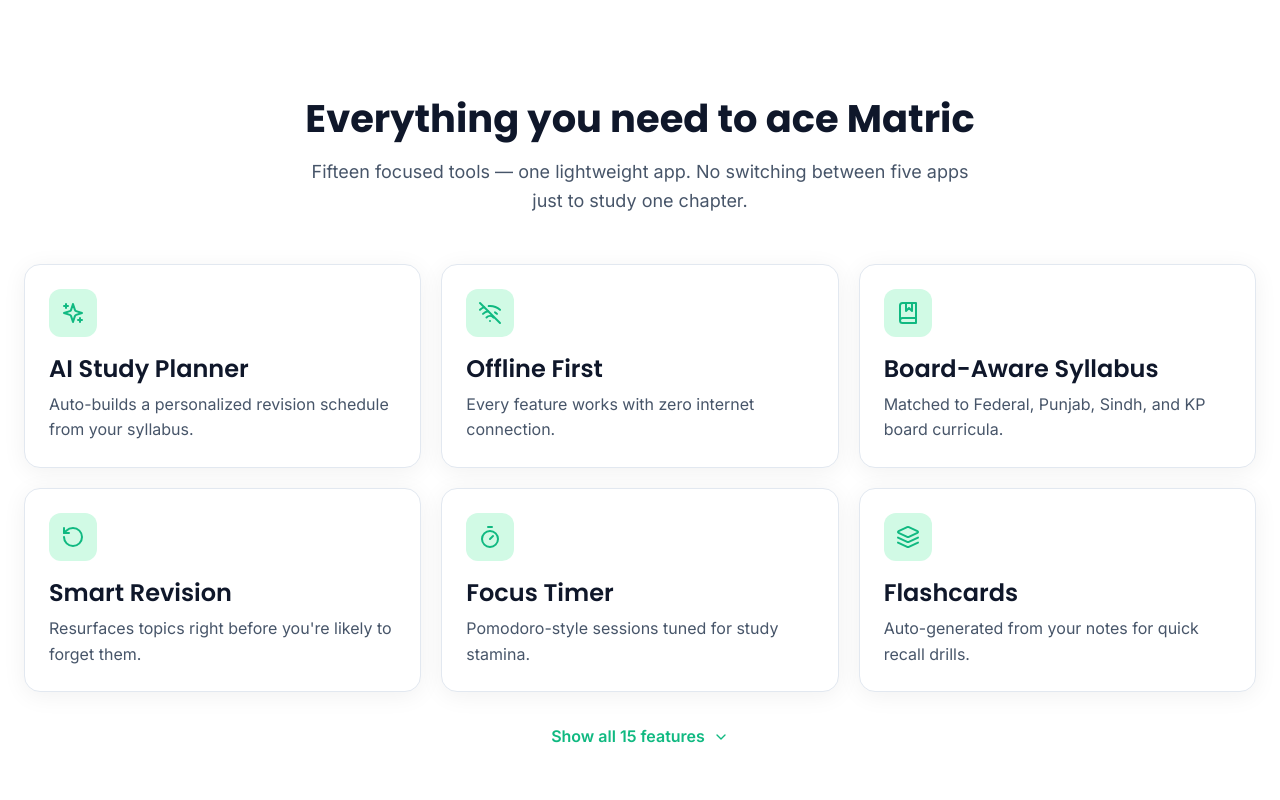
Test: Features › toggles back to 6 features when clicked again
The width and height of the screenshot is (1280, 800).
What coordinates should you click on to do the following:
click the button "Show all 15 features"
I would click on:
 (640, 737)
Its box is [551,724,729,750].
(page scrolled)
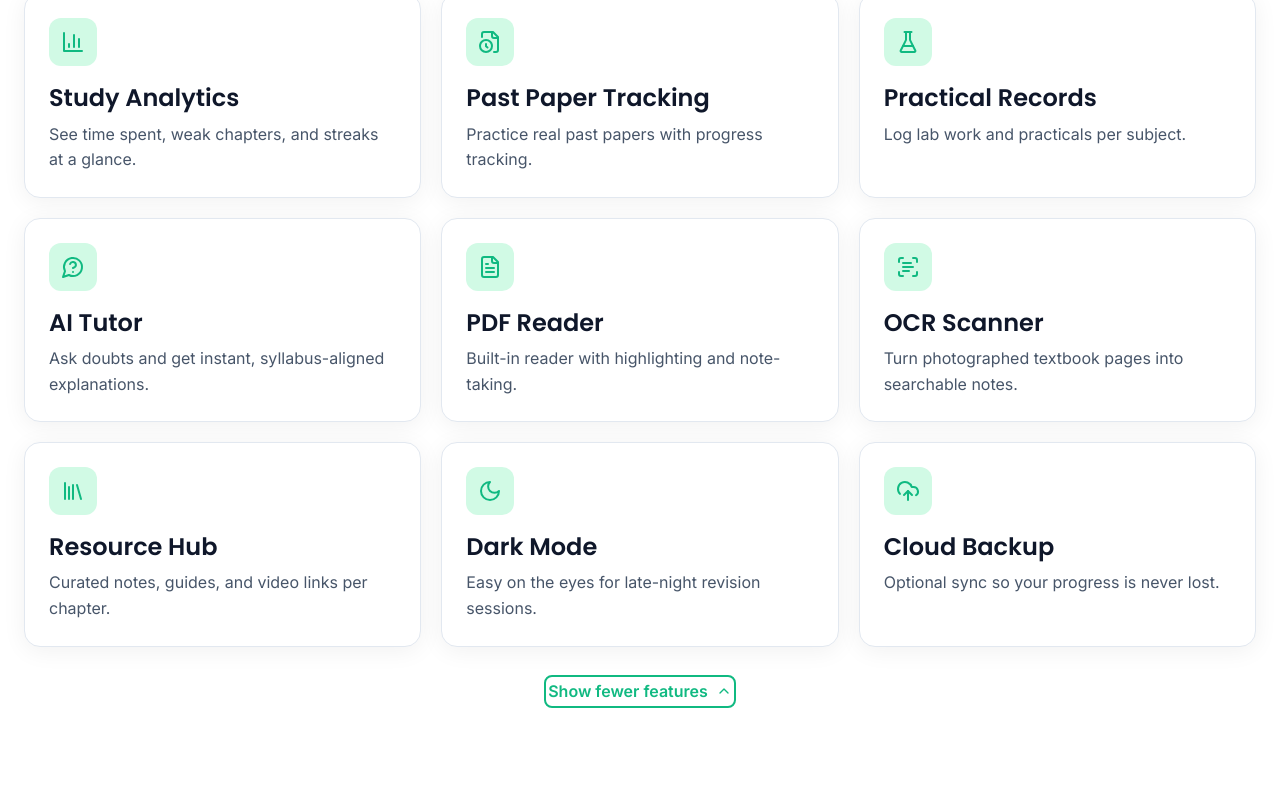
Expected: the button named "show all 15 features" shows "Show fewer"
What coordinates should you click on to do the following:
click the button named "show all 15 features"
I would click on:
 (640, 691)
Its box is [548,678,732,704].
(page scrolled)
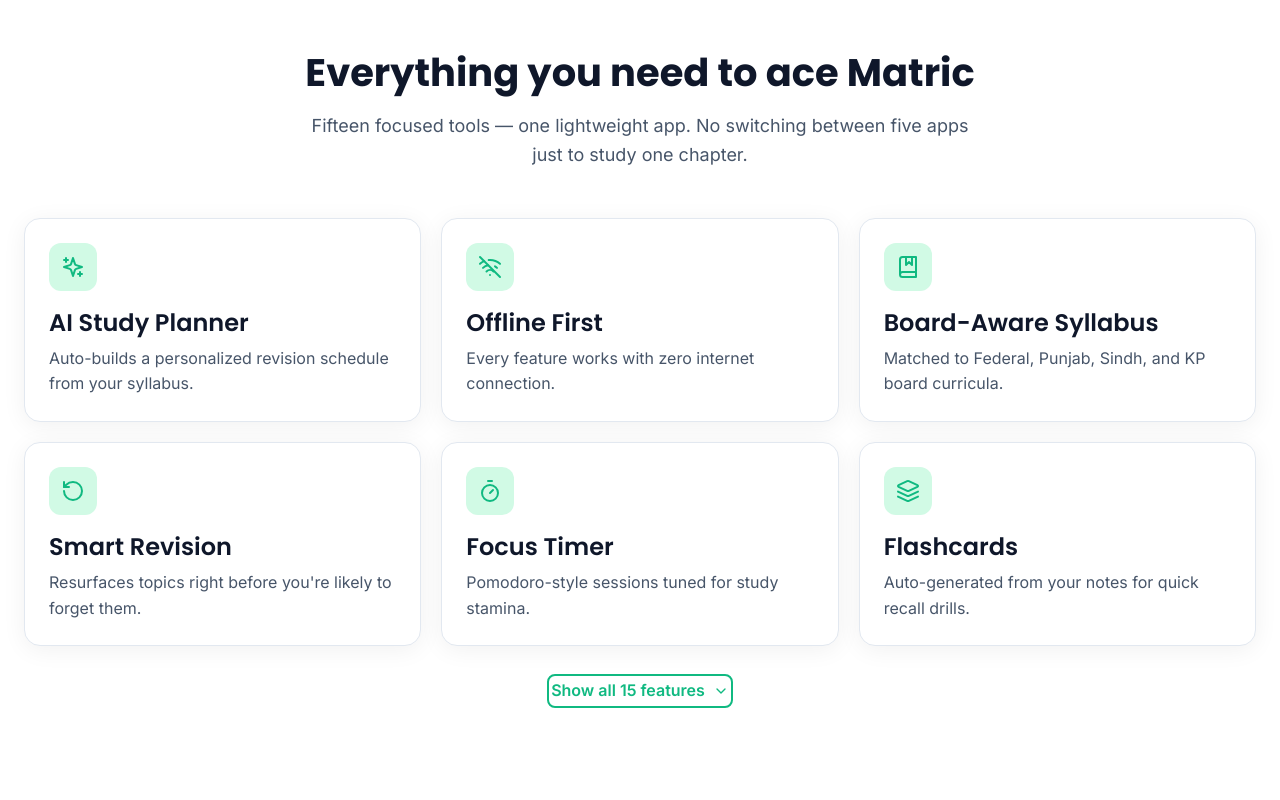
Expected: the button "Show all 15 features" is shown, [551,678,729,704]
